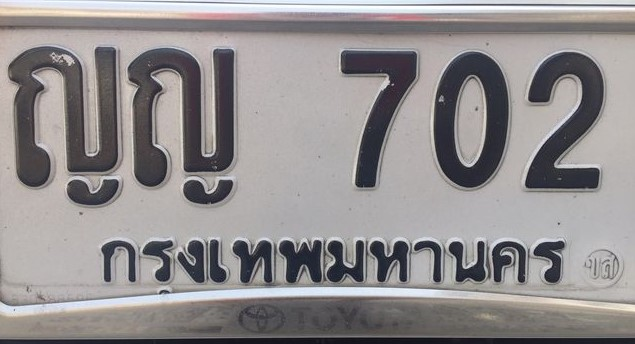txt10: (6, 42, 126, 210), (123, 43, 240, 210)
